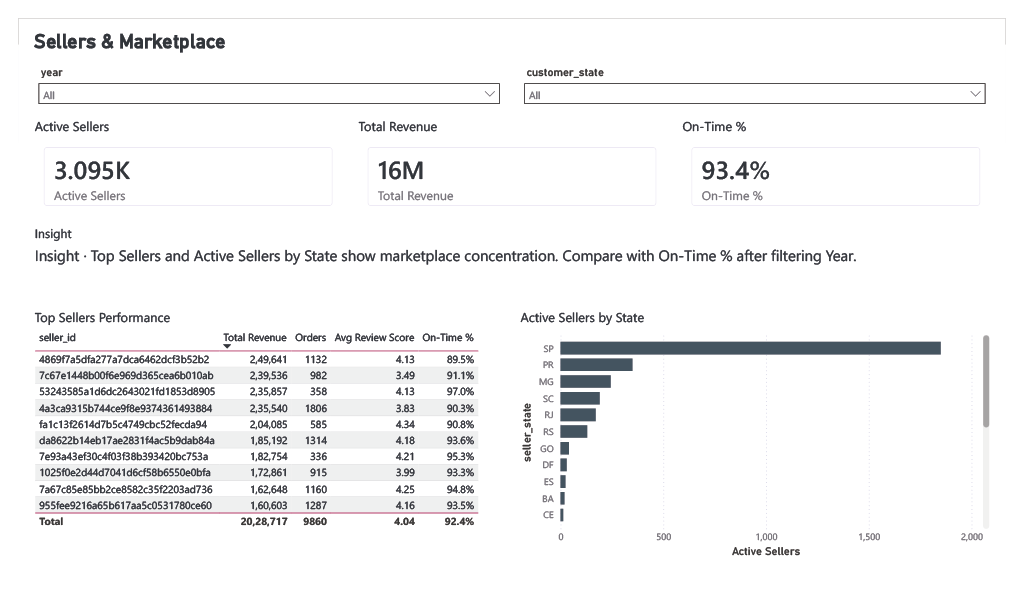

The page's visual inventory and layout, read from the dashboard file:
{"tool":"powerbi","page":{"name":"05 Sellers & Marketplace","canvas":[1280,720],"ordinal":4},"visuals":[{"type":"textbox","box":[16,8,1248,44],"z":0},{"type":"slicer","title":"Year","fields":{"Values":["vw_sales.year"]},"box":[16,56,618,64],"z":1000},{"type":"slicer","title":"Customer State","fields":{"Values":["vw_sales.customer_state"]},"box":[646,56,618,64],"z":2000},{"type":"cardVisual","title":"Active Sellers","fields":{"Data":["vw_sales.Active Sellers"]},"box":[16,128,408,132],"z":3000},{"type":"cardVisual","title":"Total Revenue","fields":{"Data":["vw_sales.Total Revenue"]},"box":[436,128,408,132],"z":4000},{"type":"cardVisual","title":"On-Time %","fields":{"Data":["vw_sales.On-Time %"]},"box":[856,128,408,132],"z":5000},{"type":"textbox","title":"Insight","box":[16,268,1248,100],"z":6000},{"type":"tableEx","title":"Top Sellers Performance","fields":{"Values":["vw_sales.seller_id","vw_sales.Total Revenue","vw_sales.Orders","vw_sales.Avg Review Score","vw_sales.On-Time %"]},"box":[16,376,618,328],"z":7000},{"type":"barChart","title":"Active Sellers by State","fields":{"Category":["vw_sales.seller_state"],"Y":["vw_sales.Active Sellers"]},"box":[646,376,618,328],"z":8000}]}

Visuals, with their boxes in screenshot pixels (x1, y1, x2, y2), scaled from the page's 1280x720 canvas onto the 1024x592 screenshot:
textbox: [13,7,1011,43]
"Year" slicer: [13,46,507,99]
"Customer State" slicer: [517,46,1011,99]
"Active Sellers" cardVisual: [13,105,339,214]
"Total Revenue" cardVisual: [349,105,675,214]
"On-Time %" cardVisual: [685,105,1011,214]
"Insight" textbox: [13,220,1011,303]
"Top Sellers Performance" tableEx: [13,309,507,579]
"Active Sellers by State" barChart: [517,309,1011,579]
